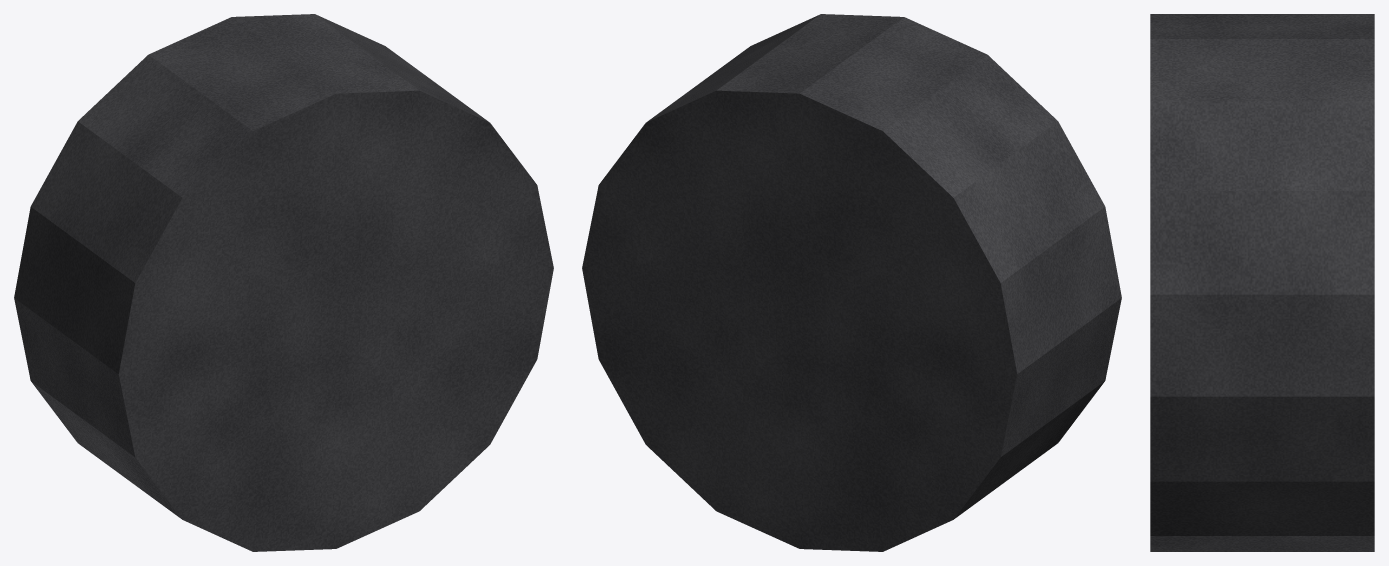
Rendered from wheel_rr.obj.
3 views of the same model, side by side, from view 1: azimuth 30°, elevation 25°; view 2: azimuth 150°, elevation 25°; view 3: azimuth 270°, elevation 25° (orthographic). The views are drawn at different scales.
Visible parts, largest first — view 1: wheel_rr; view 2: wheel_rr; view 3: wheel_rr.
Part boxes in pixels (bbox=[...]): wheel_rr: bbox=[14, 14, 553, 551]; wheel_rr: bbox=[582, 14, 1121, 551]; wheel_rr: bbox=[1150, 14, 1374, 551].
Size of the model in its own units: 0.72 by 0.72 by 0.3.
1 material, 1 textured.
